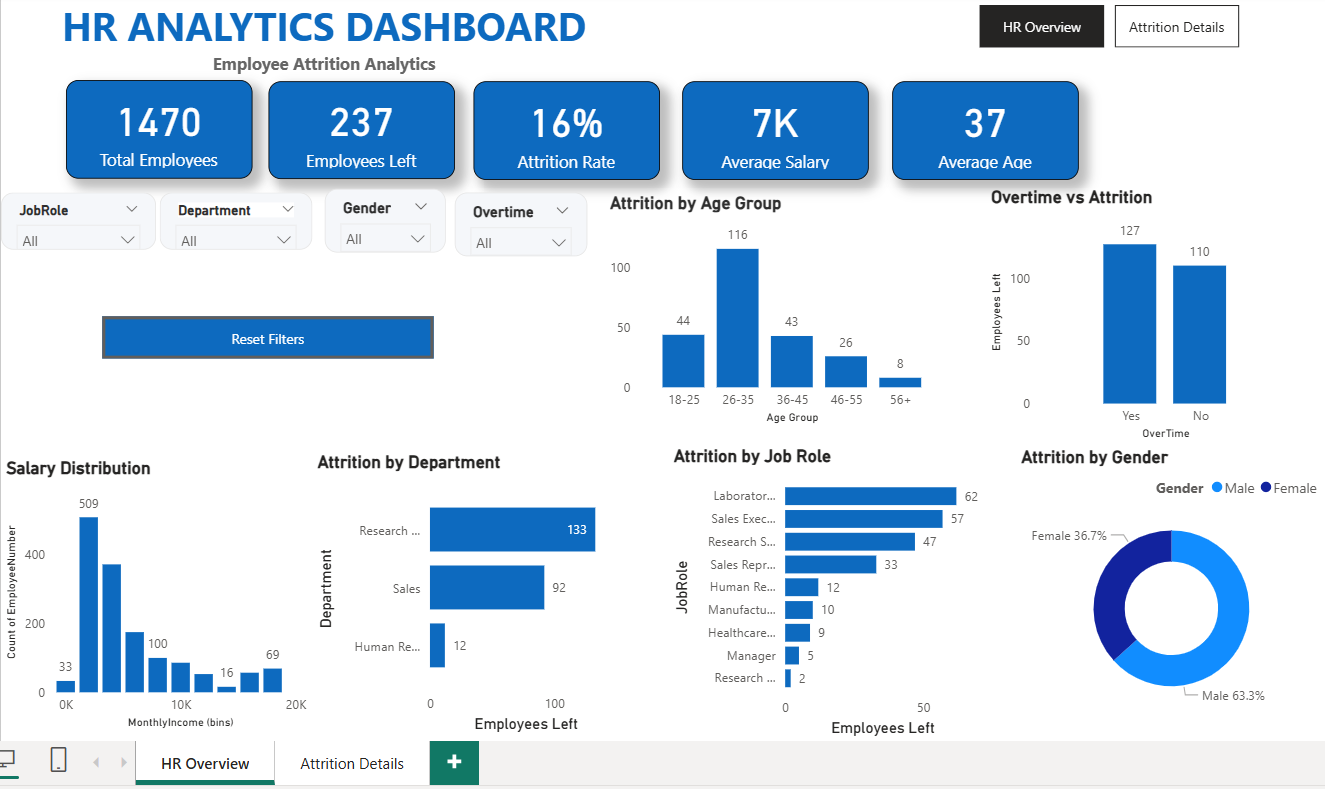

Layout of this report page (visuals, bound fields, positions):
{"tool":"powerbi","page":{"name":"HR Overview","canvas":[1280,720],"ordinal":0},"visuals":[{"type":"card","fields":{"Values":["WA_Fn-UseC_-HR-Employee-Attrition.Total Employees"]},"box":[62.7,82,179.8,95.3],"z":0},{"type":"card","fields":{"Values":["WA_Fn-UseC_-HR-Employee-Attrition.Attrition Rate"]},"box":[456,83.2,179.8,95.3],"z":1000},{"type":"card","fields":{"Values":["WA_Fn-UseC_-HR-Employee-Attrition.Average Age"]},"box":[860.2,83.2,179.8,95.3],"z":2000},{"type":"card","fields":{"Values":["WA_Fn-UseC_-HR-Employee-Attrition.Average Salary"]},"box":[657.5,83.2,179.8,95.3],"z":3000},{"type":"card","fields":{"Values":["WA_Fn-UseC_-HR-Employee-Attrition.Employees Left"]},"box":[258.2,83.2,179.8,94.1],"z":4000},{"type":"clusteredBarChart","title":"Attrition by Department","fields":{"Category":["WA_Fn-UseC_-HR-Employee-Attrition.Department"],"Y":["WA_Fn-UseC_-HR-Employee-Attrition.Employees Left"]},"box":[300.4,440.4,314.9,276.3],"z":5000},{"type":"donutChart","title":"Attrition by Gender","fields":{"Y":["WA_Fn-UseC_-HR-Employee-Attrition.Employees Left"],"Category":["WA_Fn-UseC_-HR-Employee-Attrition.Gender"]},"box":[979.6,435.5,300.4,264.2],"z":6000},{"type":"clusteredColumnChart","title":"Attrition by Age Group","fields":{"Category":["WA_Fn-UseC_-HR-Employee-Attrition.Age Group"],"Y":["WA_Fn-UseC_-HR-Employee-Attrition.Employees Left"]},"box":[582.7,190.6,333,228],"z":7000},{"type":"clusteredBarChart","title":" Attrition by Job Role","fields":{"Category":["WA_Fn-UseC_-HR-Employee-Attrition.JobRole"],"Y":["WA_Fn-UseC_-HR-Employee-Attrition.Employees Left"]},"box":[644.2,434.3,313.7,285.9],"z":8000},{"type":"clusteredColumnChart","title":"Overtime vs Attrition","fields":{"Category":["WA_Fn-UseC_-HR-Employee-Attrition.OverTime"],"Y":["WA_Fn-UseC_-HR-Employee-Attrition.Employees Left"]},"box":[950.7,184.6,300.4,249.7],"z":9000},{"type":"clusteredColumnChart","title":"Salary Distribution","fields":{"Category":["WA_Fn-UseC_-HR-Employee-Attrition.MonthlyIncome (bins)"],"Y":["CountNonNull(WA_Fn-UseC_-HR-Employee-Attrition.EmployeeNumber)"]},"box":[0,446.4,300.4,266.6],"z":10000},{"type":"slicer","fields":{"Values":["WA_Fn-UseC_-HR-Employee-Attrition.Department"]},"box":[153.2,190.6,147.2,55.5],"z":11000},{"type":"slicer","fields":{"Values":["WA_Fn-UseC_-HR-Employee-Attrition.JobRole"]},"box":[0,190.6,149.6,55.5],"z":12000},{"type":"slicer","fields":{"Values":["WA_Fn-UseC_-HR-Employee-Attrition.Gender"]},"box":[312.5,187,117,61.5],"z":13000},{"type":"slicer","fields":{"Values":["WA_Fn-UseC_-HR-Employee-Attrition.OverTime"]},"box":[437.9,190.6,127.9,61.5],"z":14000},{"type":"textbox","box":[13.7,0,596.9,82.3],"z":16000},{"type":"pageNavigator","box":[944.1,9.6,251.1,41.2],"z":17000},{"type":"actionButton","box":[97.7,310.1,319.7,41],"z":18000}]}

Visuals, with their boxes on the page's 1280x720 design canvas (x1, y1, x2, y2). These are canvas units, not pixel positions in the 1325x789 screenshot, which may show the page scaled, cropped or inside an application window:
card - WA_Fn-UseC_-HR-Employee-Attrition.Total Employees: pyautogui.locateOnScreen(63, 82, 242, 177)
card - WA_Fn-UseC_-HR-Employee-Attrition.Attrition Rate: pyautogui.locateOnScreen(456, 83, 636, 178)
card - WA_Fn-UseC_-HR-Employee-Attrition.Average Age: pyautogui.locateOnScreen(860, 83, 1040, 178)
card - WA_Fn-UseC_-HR-Employee-Attrition.Average Salary: pyautogui.locateOnScreen(658, 83, 837, 178)
card - WA_Fn-UseC_-HR-Employee-Attrition.Employees Left: pyautogui.locateOnScreen(258, 83, 438, 177)
"Attrition by Department" clusteredBarChart: pyautogui.locateOnScreen(300, 440, 615, 717)
"Attrition by Gender" donutChart: pyautogui.locateOnScreen(980, 436, 1280, 700)
"Attrition by Age Group" clusteredColumnChart: pyautogui.locateOnScreen(583, 191, 916, 419)
" Attrition by Job Role" clusteredBarChart: pyautogui.locateOnScreen(644, 434, 958, 720)
"Overtime vs Attrition" clusteredColumnChart: pyautogui.locateOnScreen(951, 185, 1251, 434)
"Salary Distribution" clusteredColumnChart: pyautogui.locateOnScreen(0, 446, 300, 713)
slicer - WA_Fn-UseC_-HR-Employee-Attrition.Department: pyautogui.locateOnScreen(153, 191, 300, 246)
slicer - WA_Fn-UseC_-HR-Employee-Attrition.JobRole: pyautogui.locateOnScreen(0, 191, 150, 246)
slicer - WA_Fn-UseC_-HR-Employee-Attrition.Gender: pyautogui.locateOnScreen(312, 187, 430, 248)
slicer - WA_Fn-UseC_-HR-Employee-Attrition.OverTime: pyautogui.locateOnScreen(438, 191, 566, 252)
textbox: pyautogui.locateOnScreen(14, 0, 611, 82)
pageNavigator: pyautogui.locateOnScreen(944, 10, 1195, 51)
actionButton: pyautogui.locateOnScreen(98, 310, 417, 351)
